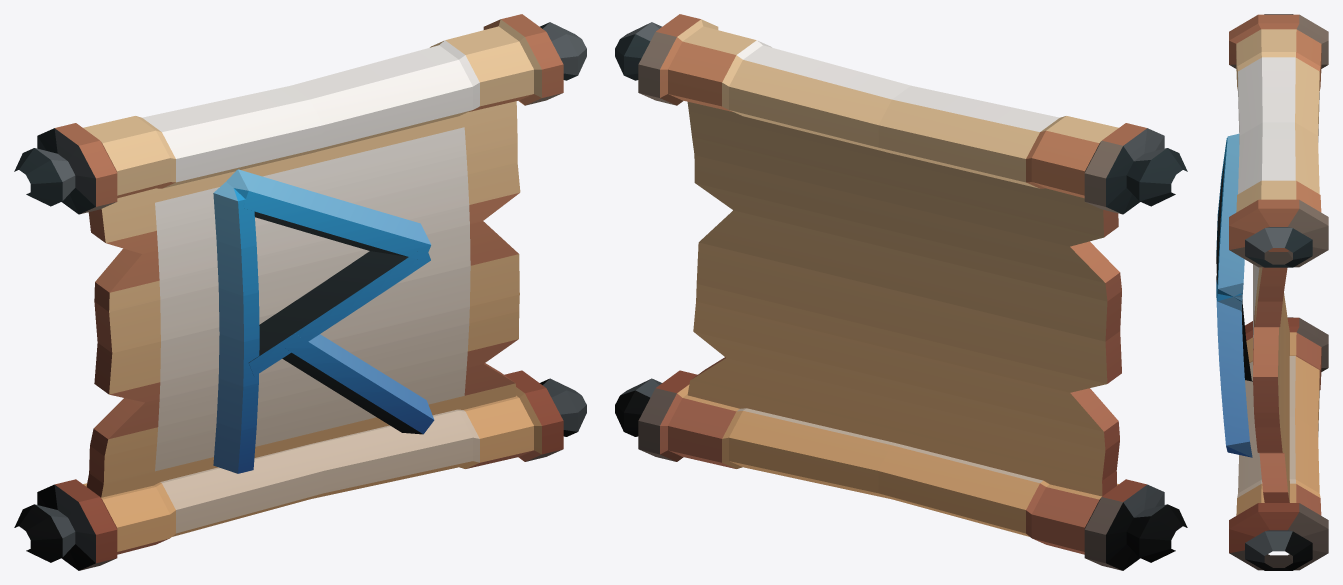
File: scroll_cobalt_raidho.glb
3 renders of one model, left to right at view 1: azimuth 30°, elevation 25°; view 2: azimuth 150°, elevation 25°; view 3: azimuth 270°, elevation 25°, orthographic. The views are drawn at different scales.
Parts seen in each view (by area): view 1: model; view 2: model; view 3: model.
Boxes of the visible parts, left/top/right/bottom form: model: left=14, top=14, right=586, bottom=570; model: left=615, top=14, right=1187, bottom=570; model: left=1216, top=14, right=1328, bottom=570.
Size of the model in its own units: 0.88 by 0.64 by 0.18.
Materials: 1 (1 with a texture image).
